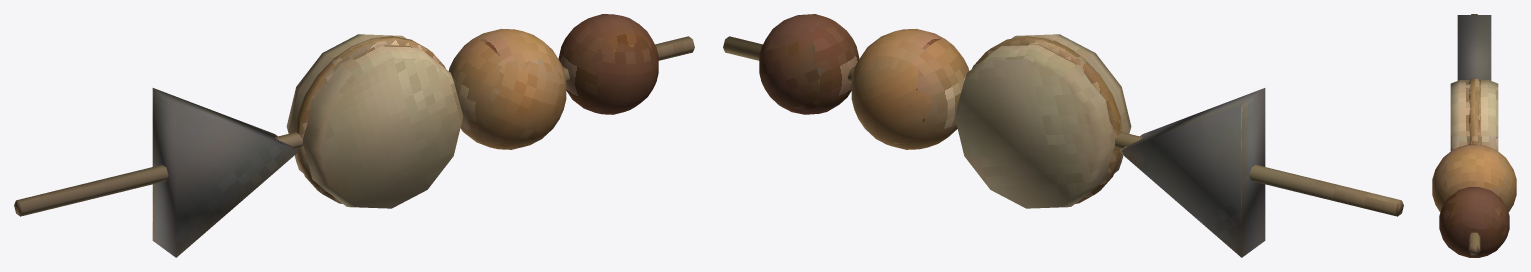
Rendered from oden.glb.
3 views of the same model, side by side, from view 1: azimuth 30°, elevation 25°; view 2: azimuth 150°, elevation 25°; view 3: azimuth 270°, elevation 25° (orthographic). The views are drawn at different scales.
Visible parts, largest first — view 1: prop_oden_felt, prop_oden_wood; view 2: prop_oden_felt, prop_oden_wood; view 3: prop_oden_felt, prop_oden_wood.
Boxes of the visible parts, x1,y1,x2,y2 form: prop_oden_felt: [152, 14, 658, 257]; prop_oden_wood: [14, 36, 694, 216]; prop_oden_felt: [759, 14, 1265, 257]; prop_oden_wood: [723, 36, 1403, 216]; prop_oden_felt: [1432, 15, 1516, 257]; prop_oden_wood: [1468, 14, 1480, 255].
Bounding box in the file's own units: 0.345 × 0.0798 × 0.0529.
2 materials, 2 textured.
